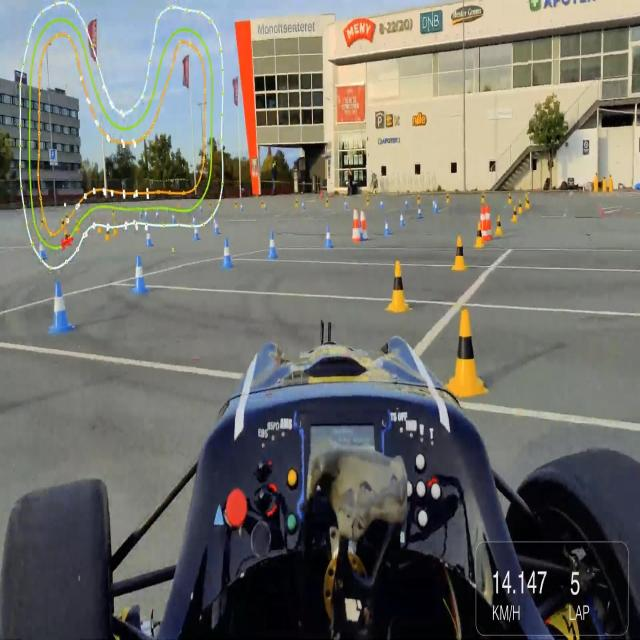blue_cone: (50, 278, 73, 334), (131, 254, 148, 294), (222, 237, 233, 271), (267, 228, 278, 260), (37, 237, 46, 264), (325, 225, 333, 250), (213, 218, 220, 238), (193, 224, 200, 243), (145, 230, 152, 248), (416, 204, 424, 219), (384, 218, 390, 236), (170, 211, 176, 227), (399, 212, 405, 226), (434, 198, 438, 216), (432, 195, 436, 213), (404, 197, 409, 210), (192, 214, 196, 227), (301, 202, 305, 212), (380, 199, 383, 212)
large_orange_cone: (352, 206, 361, 242), (361, 208, 368, 240), (486, 205, 492, 242), (482, 205, 486, 242)
yellow_cone: (448, 302, 488, 402), (384, 259, 412, 315), (450, 234, 468, 272), (474, 222, 483, 248), (495, 212, 503, 237), (511, 204, 518, 222), (104, 224, 110, 242), (480, 190, 486, 207), (525, 194, 530, 212), (445, 190, 451, 204), (518, 198, 523, 214), (416, 192, 421, 206), (365, 194, 370, 207), (508, 191, 512, 205), (325, 195, 329, 208), (294, 196, 298, 209), (260, 198, 264, 211), (234, 199, 238, 211)
